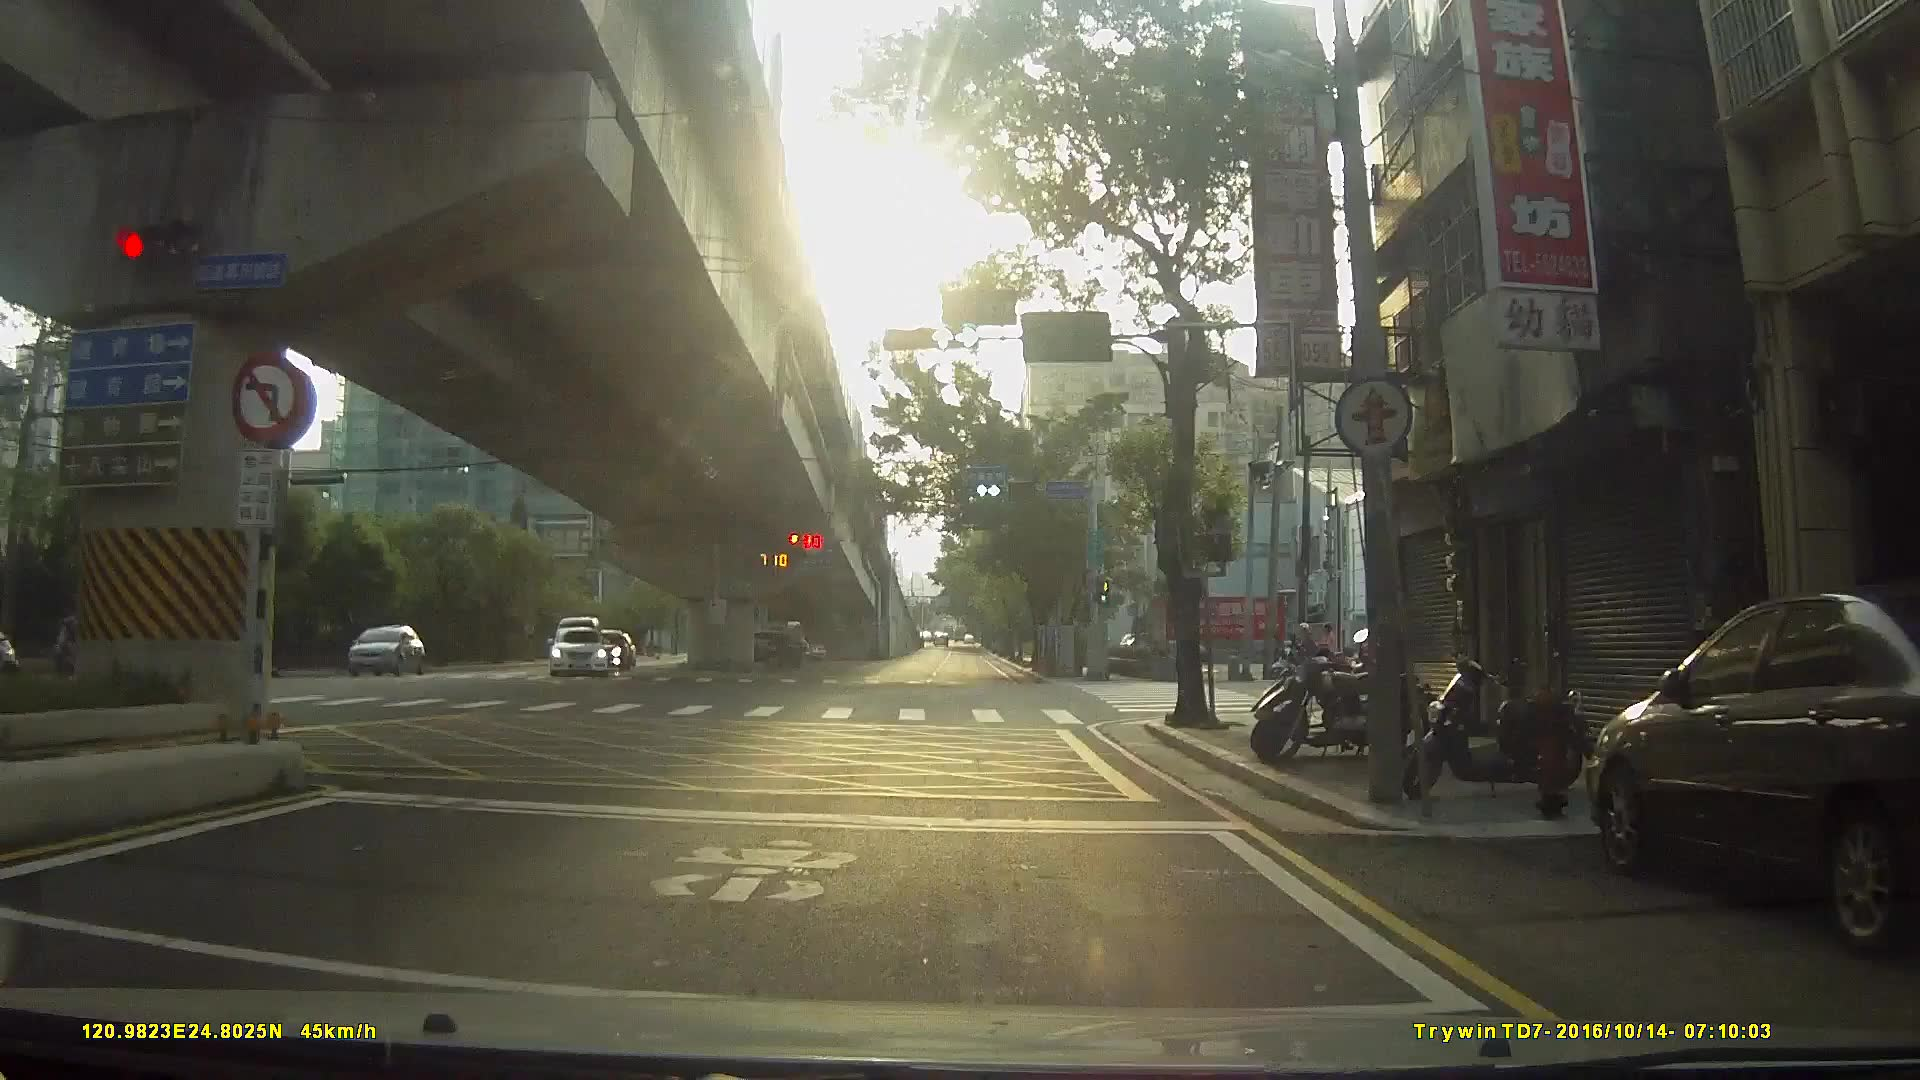vehicle: (1576, 582, 1920, 967), (338, 622, 419, 676), (542, 624, 607, 676), (731, 626, 806, 669)
